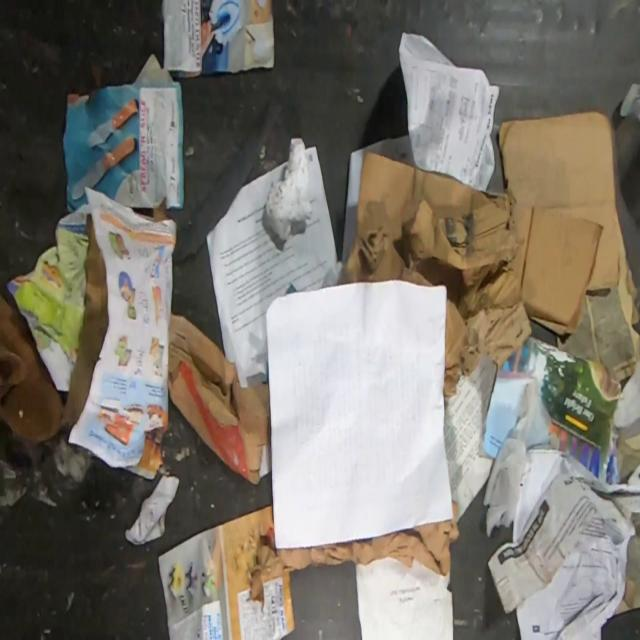cardboard: (337, 147, 533, 404), (498, 109, 622, 289), (167, 313, 271, 483), (509, 200, 603, 335)
